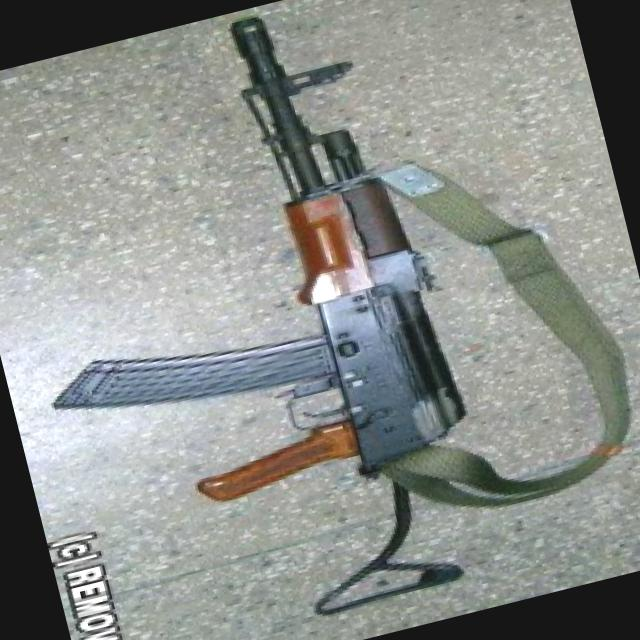long weapon: (9, 0, 499, 639)
